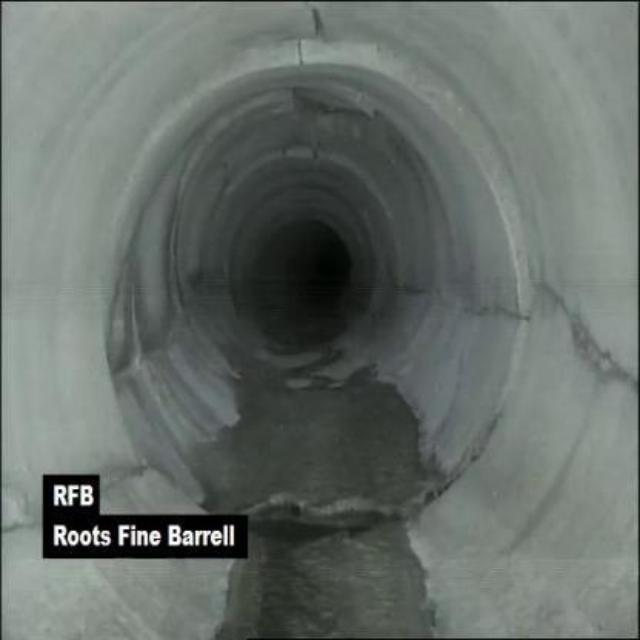Crack: (537, 263, 638, 395), (3, 466, 140, 537), (302, 5, 328, 37), (291, 40, 315, 66)
Joint offset: (329, 12, 469, 83), (466, 109, 534, 245)
